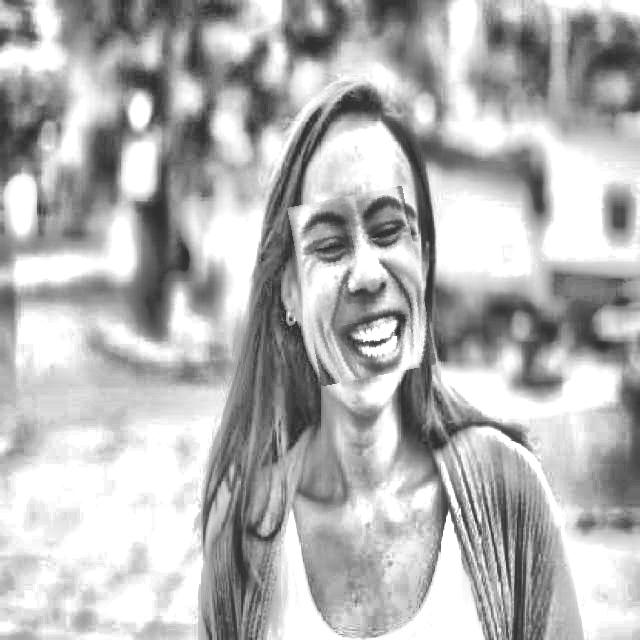happy: (295, 191, 428, 381)
